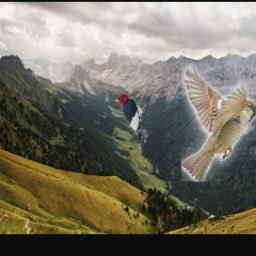Sparrow: (182, 64, 256, 182)
Woodpecker: (112, 94, 146, 141)
